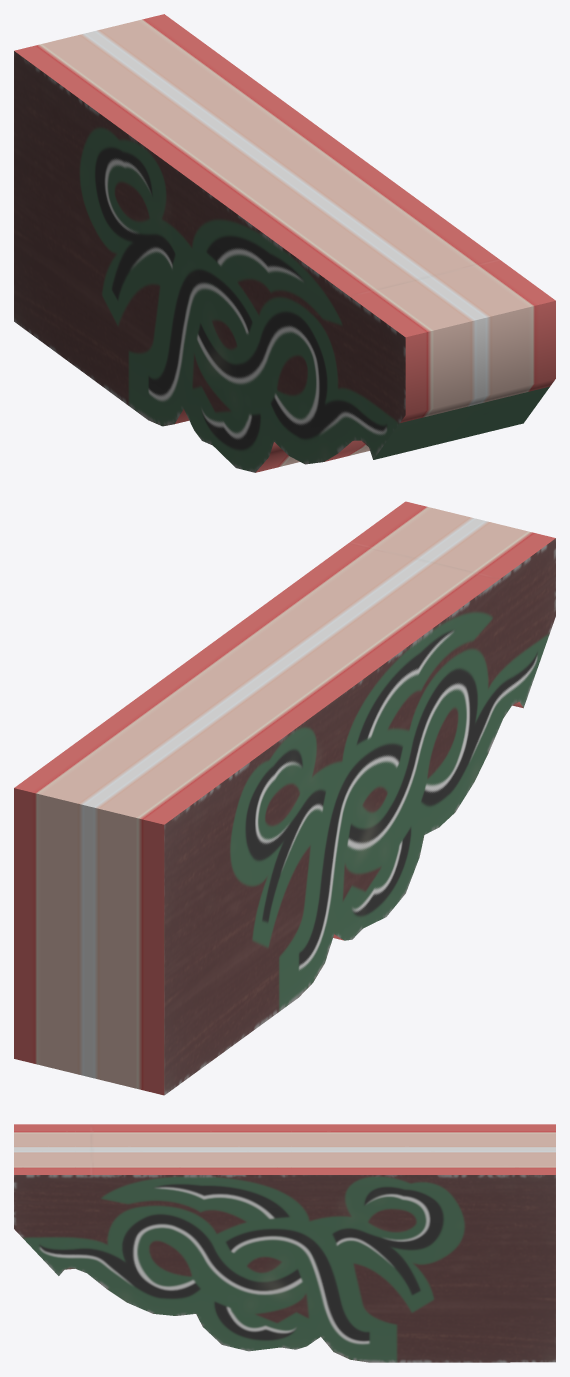
File: SM_CGJ_Gongpo06d.fbx
The picture shows the model from 3 angles, top to bottom: view 1: azimuth 30°, elevation 25°; view 2: azimuth 150°, elevation 25°; view 3: azimuth 270°, elevation 25°; orthographic projection. The views are drawn at different scales.
Visible parts, largest first — view 1: SM_CGJ_Gongpo06d; view 2: SM_CGJ_Gongpo06d; view 3: SM_CGJ_Gongpo06d.
Part boxes in pixels (bbox=[...]): SM_CGJ_Gongpo06d: bbox=[14, 14, 555, 472]; SM_CGJ_Gongpo06d: bbox=[14, 501, 555, 1095]; SM_CGJ_Gongpo06d: bbox=[14, 1124, 555, 1362].
Size of the model in its own units: 11.17 by 50.39 by 19.26.
1 material, 1 textured.
